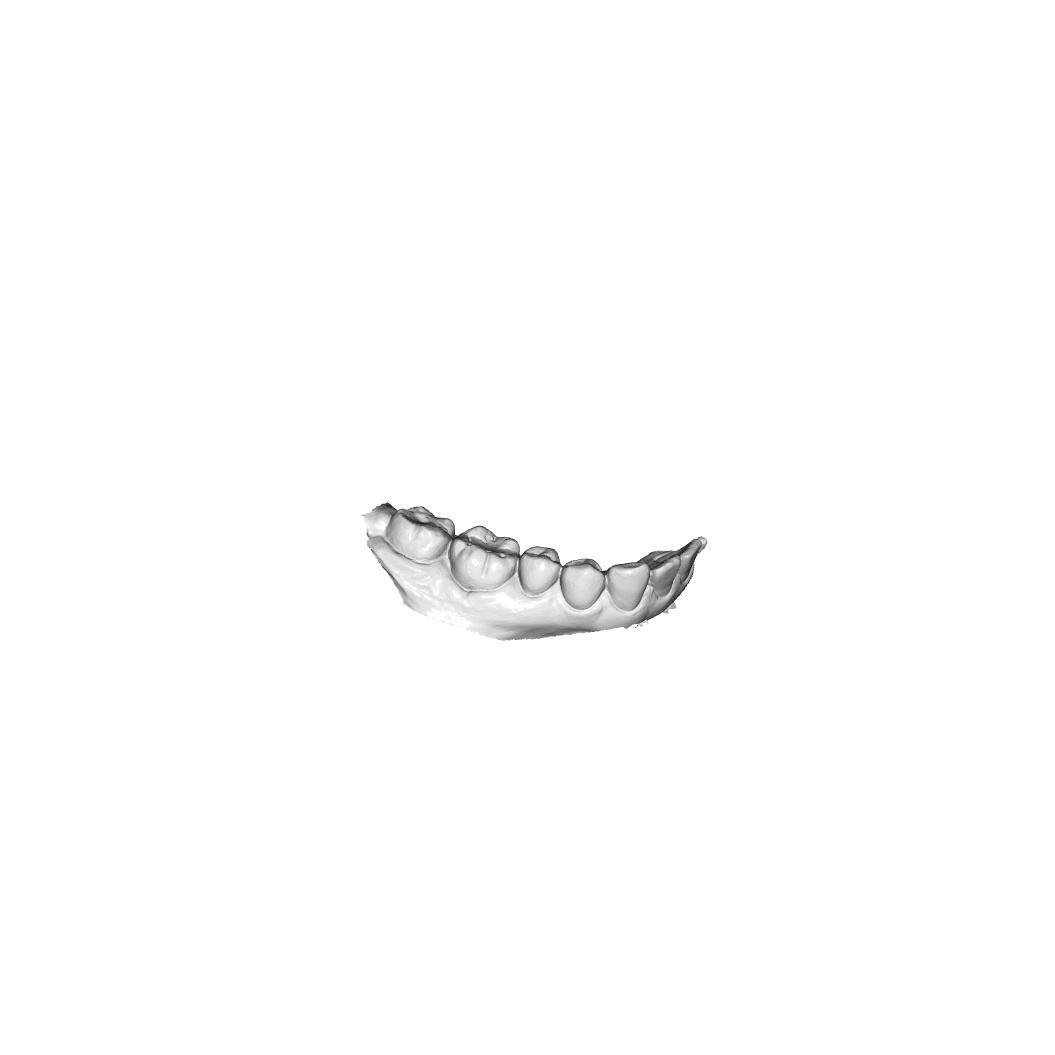canine: (606, 560, 651, 613)
incisor: (649, 553, 681, 598), (679, 538, 703, 583)
molar: (447, 524, 521, 591), (385, 504, 455, 565)
premolar: (560, 557, 607, 611), (517, 545, 561, 596)
